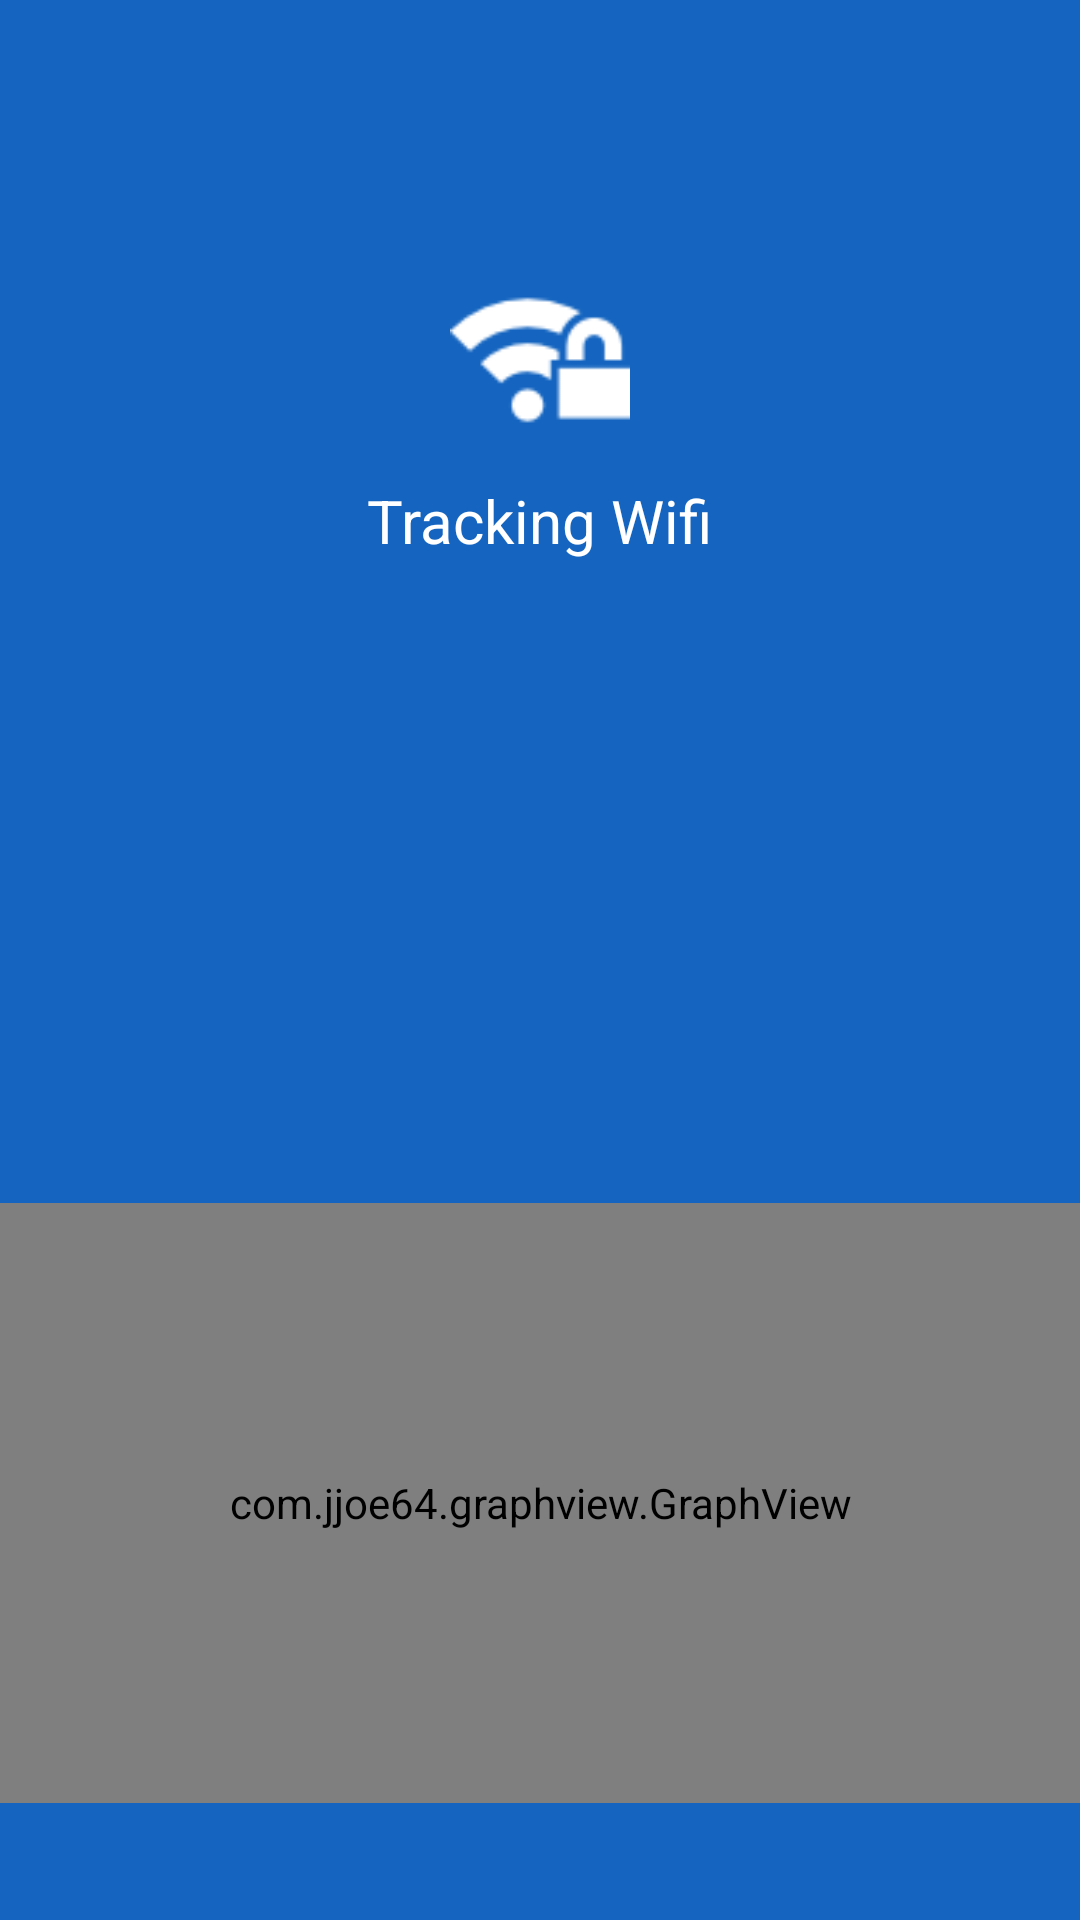

Icons on this 1080px×1920px Android screen, each with its box as (x1, y1, x2, y2):
closed network: (450, 297, 630, 423)
